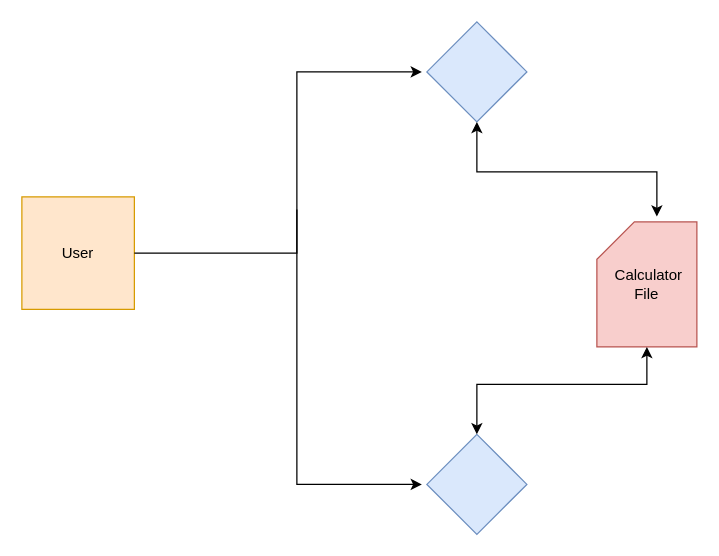
The diagram is 719 pixels wide and 556 high, and some of its shapes have lost their labels. Here are the shapes that lost their labels. From the top down, the centre of each, then its label:
At pixel 476 71: "Input".
At pixel 476 483: "Output".
